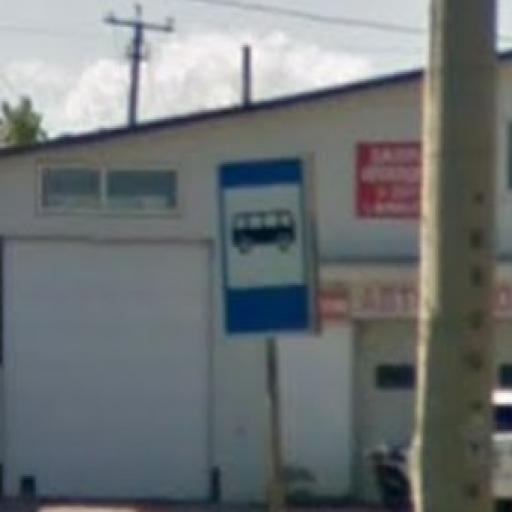traffic_sign: (214, 152, 317, 342)
